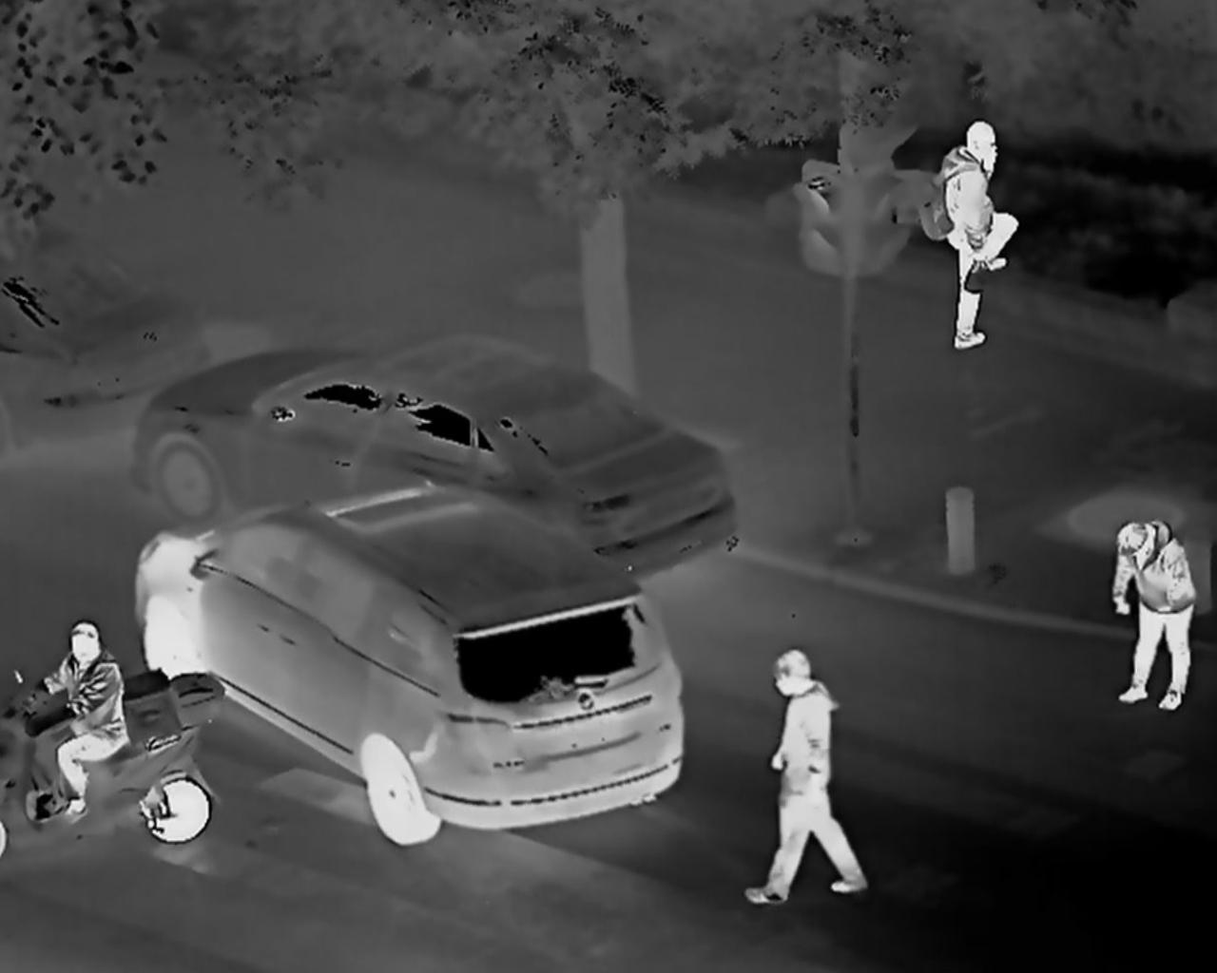person: (748, 646, 867, 910), (920, 112, 1022, 354), (17, 622, 133, 817), (1107, 514, 1195, 718)
